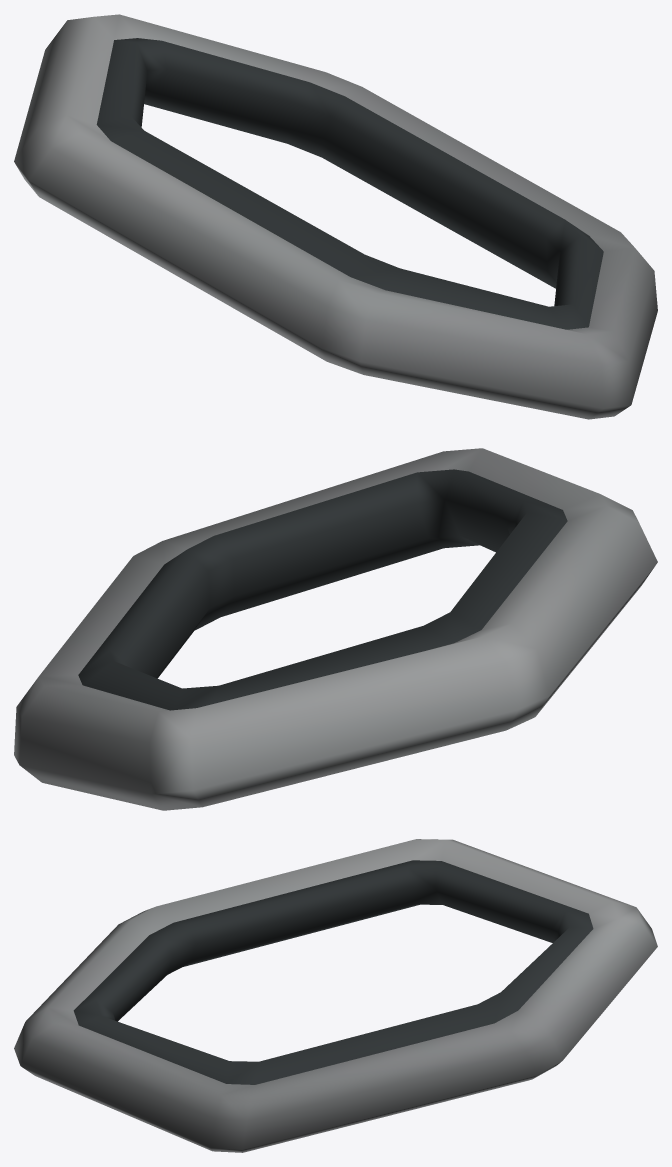
Rendered from Drone_003_wing_001.fbx.
3 renders of one model, top to bottom at view 1: azimuth 30°, elevation 25°; view 2: azimuth 150°, elevation 25°; view 3: azimuth 270°, elevation 25°, orthographic. The views are drawn at different scales.
Parts seen in each view (by area): view 1: Drone_003_wing_001; view 2: Drone_003_wing_001; view 3: Drone_003_wing_001.
Boxes of the visible parts, box(x1,y1,x2,y2) form: Drone_003_wing_001: box(14, 14, 657, 419); Drone_003_wing_001: box(14, 448, 657, 810); Drone_003_wing_001: box(14, 839, 657, 1152).
Bounding box in the file's own units: 34.79 × 51.79 × 13.75.
